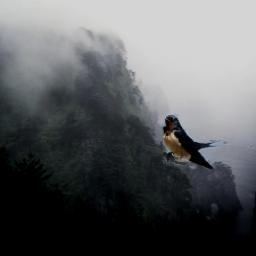Swallow: (163, 115, 242, 170)
